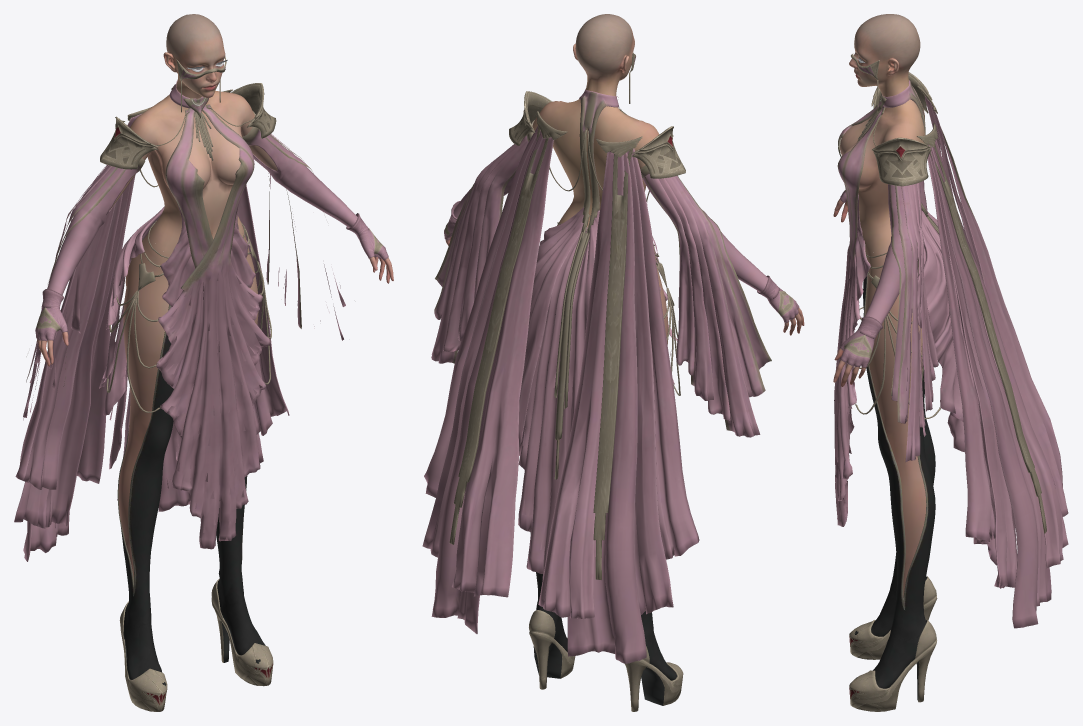
3 views of the same model, side by side, from view 1: azimuth 30°, elevation 25°; view 2: azimuth 150°, elevation 25°; view 3: azimuth 270°, elevation 25° (orthographic).
Visible parts, largest first — view 1: GF_0032_T05_Body, GF_0032_T05_Cape, GF_0032_T05_Pants, GF_BaseHead, GF_0032_T05_Boots, GF_0032_T05_Shoulder, GF_0032_T05_Glove; view 2: GF_0032_T05_Cape, GF_0032_T05_Body, GF_0032_T05_Boots, GF_BaseHead, GF_0032_T05_Shoulder, GF_0032_T05_Pants, GF_0032_T05_Glove; view 3: GF_0032_T05_Cape, GF_0032_T05_Body, GF_0032_T05_Pants, GF_BaseHead, GF_0032_T05_Boots, GF_0032_T05_Shoulder, GF_0032_T05_Glove.
Boxes of the visible parts, bbox=[...] form: GF_0032_T05_Body: bbox=[23, 80, 393, 549]; GF_0032_T05_Cape: bbox=[14, 89, 289, 561]; GF_0032_T05_Pants: bbox=[117, 221, 265, 685]; GF_BaseHead: bbox=[163, 14, 227, 98]; GF_0032_T05_Boots: bbox=[119, 579, 273, 711]; GF_0032_T05_Shoulder: bbox=[100, 83, 276, 169]; GF_0032_T05_Glove: bbox=[35, 213, 388, 340]; GF_0032_T05_Cape: bbox=[422, 111, 699, 663]; GF_0032_T05_Body: bbox=[431, 89, 804, 579]; GF_0032_T05_Boots: bbox=[529, 610, 683, 711]; GF_BaseHead: bbox=[573, 14, 634, 96]; GF_0032_T05_Shoulder: bbox=[509, 91, 685, 178]; GF_0032_T05_Pants: bbox=[530, 220, 677, 680]; GF_0032_T05_Glove: bbox=[444, 201, 799, 322]; GF_0032_T05_Cape: bbox=[917, 85, 1068, 628]; GF_0032_T05_Body: bbox=[833, 80, 996, 565]; GF_0032_T05_Pants: bbox=[854, 247, 935, 688]; GF_BaseHead: bbox=[849, 14, 920, 96]; GF_0032_T05_Boots: bbox=[849, 576, 937, 711]; GF_0032_T05_Shoulder: bbox=[871, 72, 932, 186]; GF_0032_T05_Glove: bbox=[840, 190, 882, 367].
Size of the model in its own units: 1.03 by 1.88 by 0.6019.
Materials: 10 (9 with a texture image).
